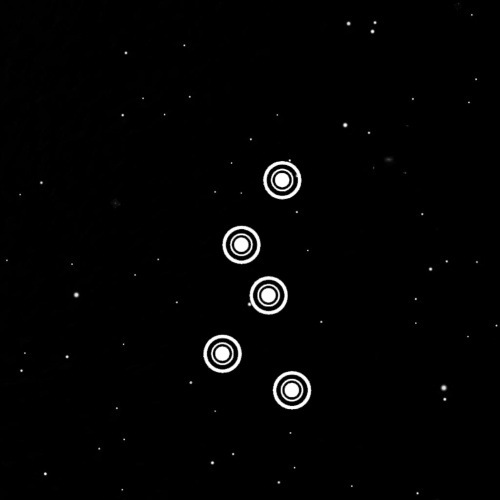cassiopeia: (193, 148, 326, 418)
